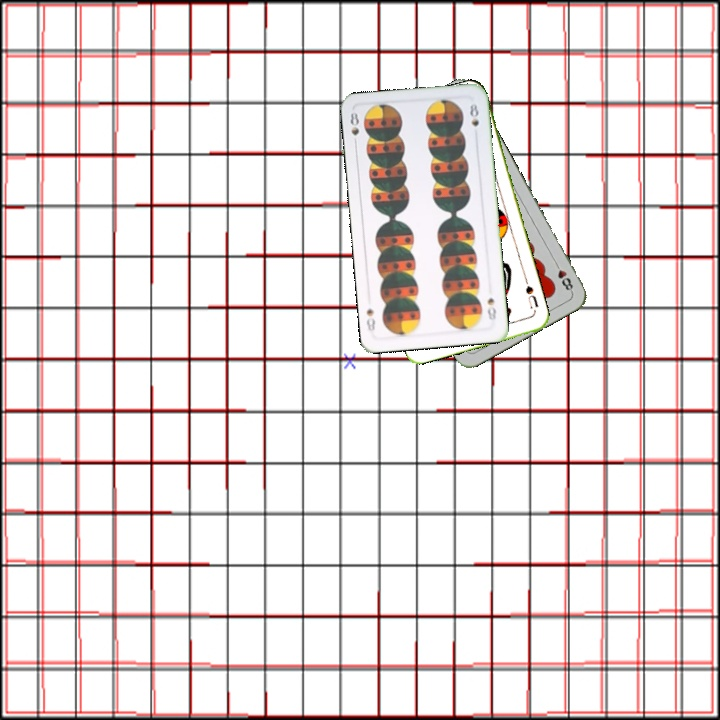H8: (550, 257, 576, 295)
S8: (346, 109, 361, 149), (483, 294, 499, 324)
SU: (521, 282, 541, 311)
